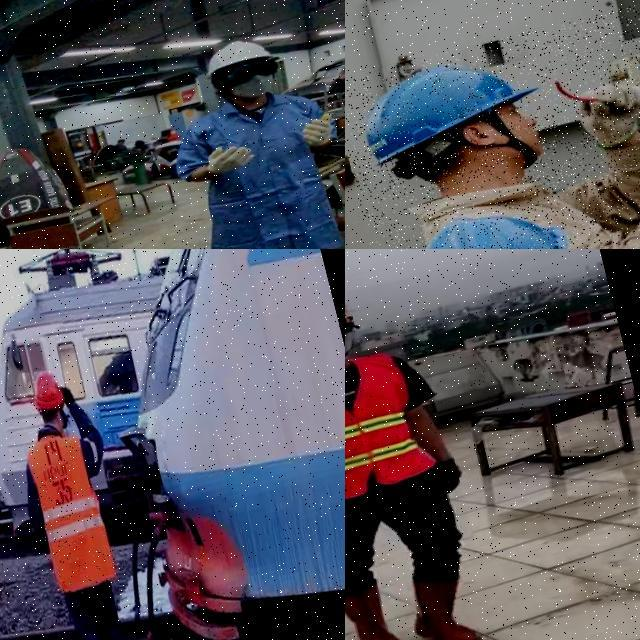boots: (401, 564, 485, 640), (345, 576, 411, 640)
helmet: (345, 31, 560, 174), (389, 186, 593, 249), (196, 28, 278, 78), (27, 369, 68, 414)
vest: (20, 425, 122, 600), (345, 348, 437, 511)
